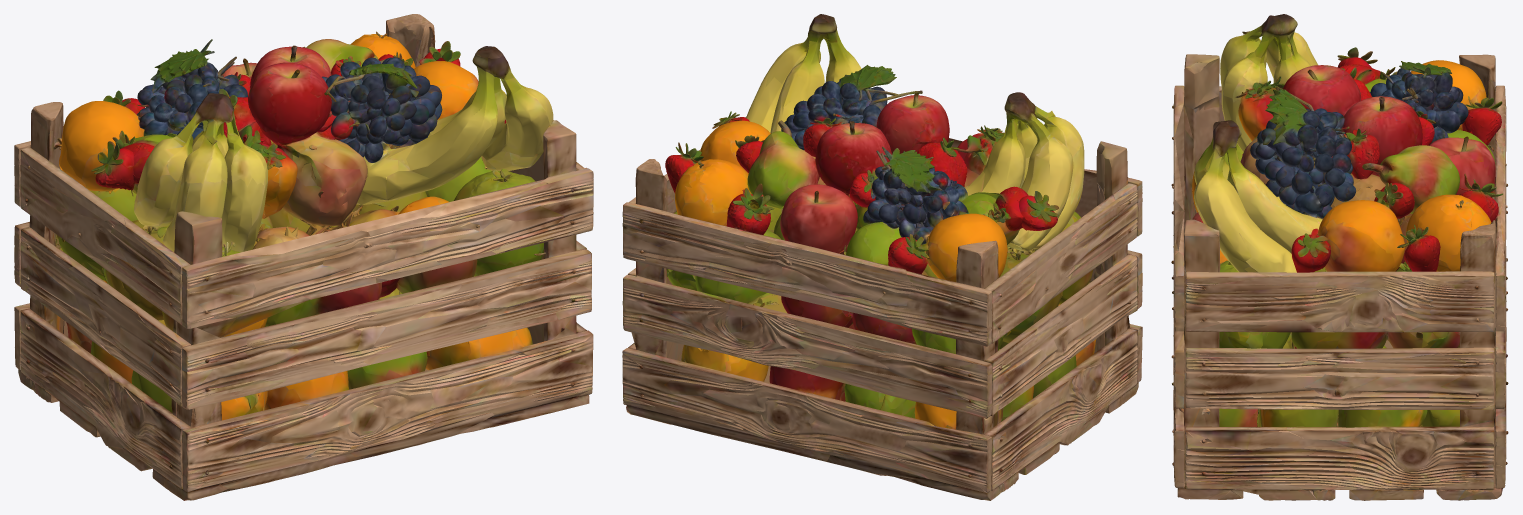
The model's file is cesta-xepa.glb.
The picture shows the model from 3 angles, left to right: view 1: azimuth 30°, elevation 25°; view 2: azimuth 150°, elevation 25°; view 3: azimuth 270°, elevation 25°; orthographic projection. The views are drawn at different scales.
Visible parts, largest first — view 1: output_unwrapped; view 2: output_unwrapped; view 3: output_unwrapped.
Boxes of the visible parts, box(x1,y1,x2,y2) form: output_unwrapped: box(14, 14, 593, 500); output_unwrapped: box(622, 14, 1142, 500); output_unwrapped: box(1171, 14, 1508, 500).
Size of the model in its own units: 1.9 by 1.59 by 1.41.
1 material, 1 textured.
